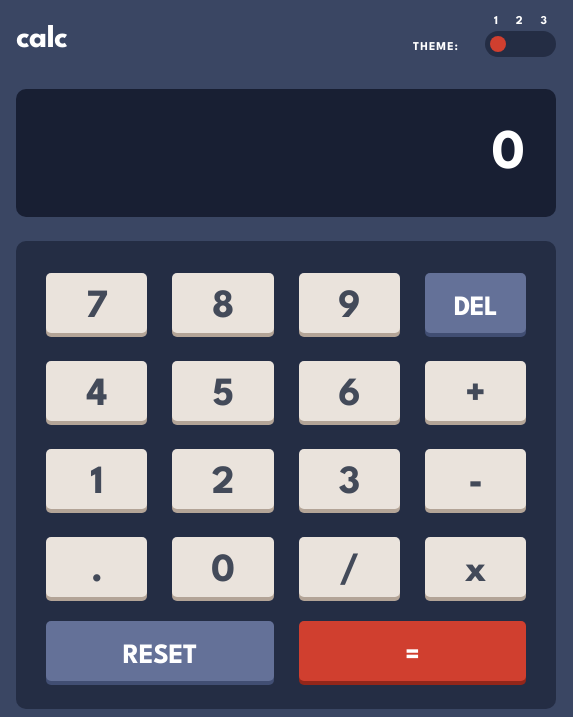
Test case: Validate all possible math › While using desktop size › When clicked on 8 - 5 and =, then should display 3 as result
Click the button with test id "numpad-id-8" at (223, 303), box [172,273,273,333]
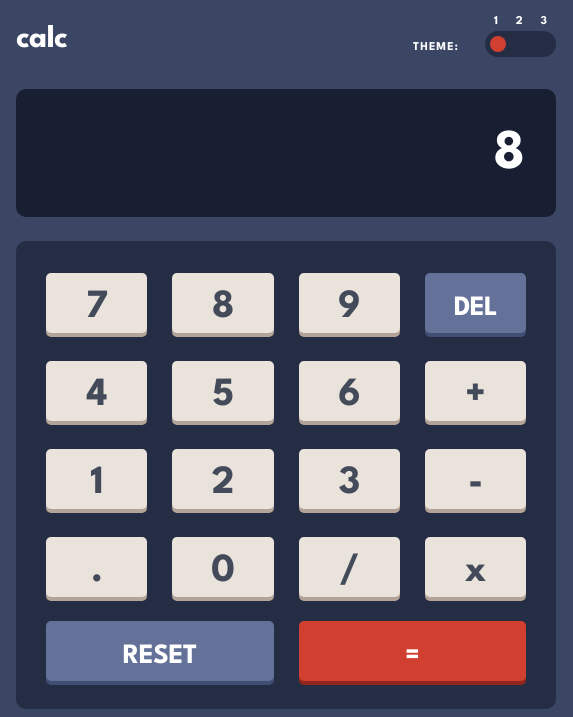
Click the button with test id "numpad-id--" at (476, 479), box [425,449,526,509]
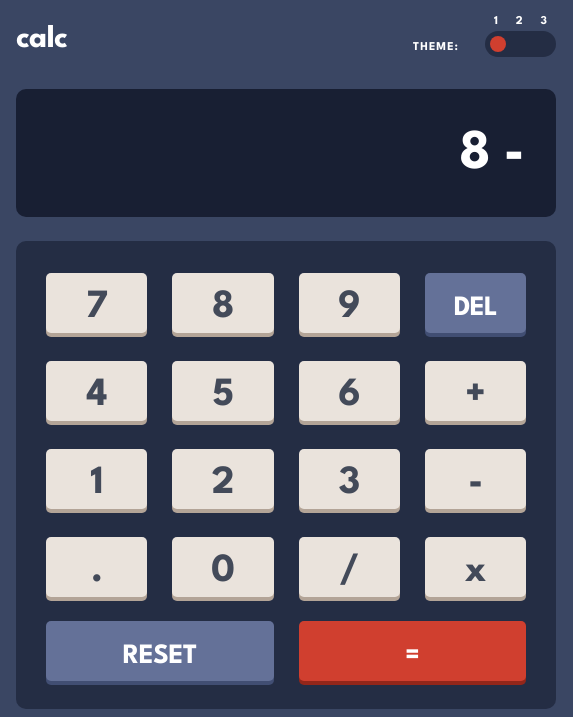
Click the button with test id "numpad-id-5" at (223, 391), box [172,361,273,421]
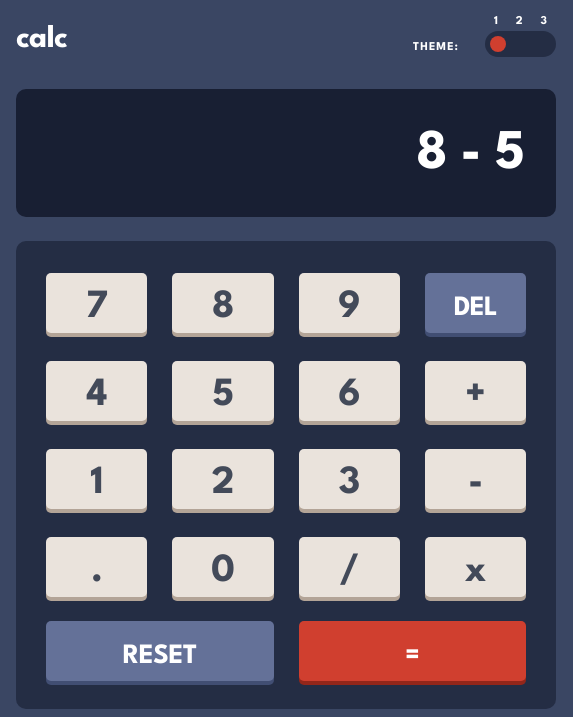
Click the button with test id "numpad-id-=" at (413, 651), box [299,621,527,681]
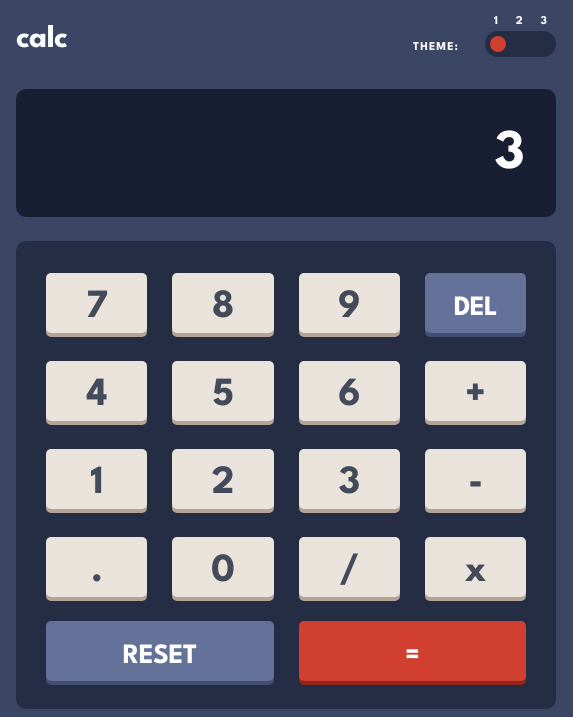
Expected: the heading with test id "result-display" reads "3", [16,89,556,217]
